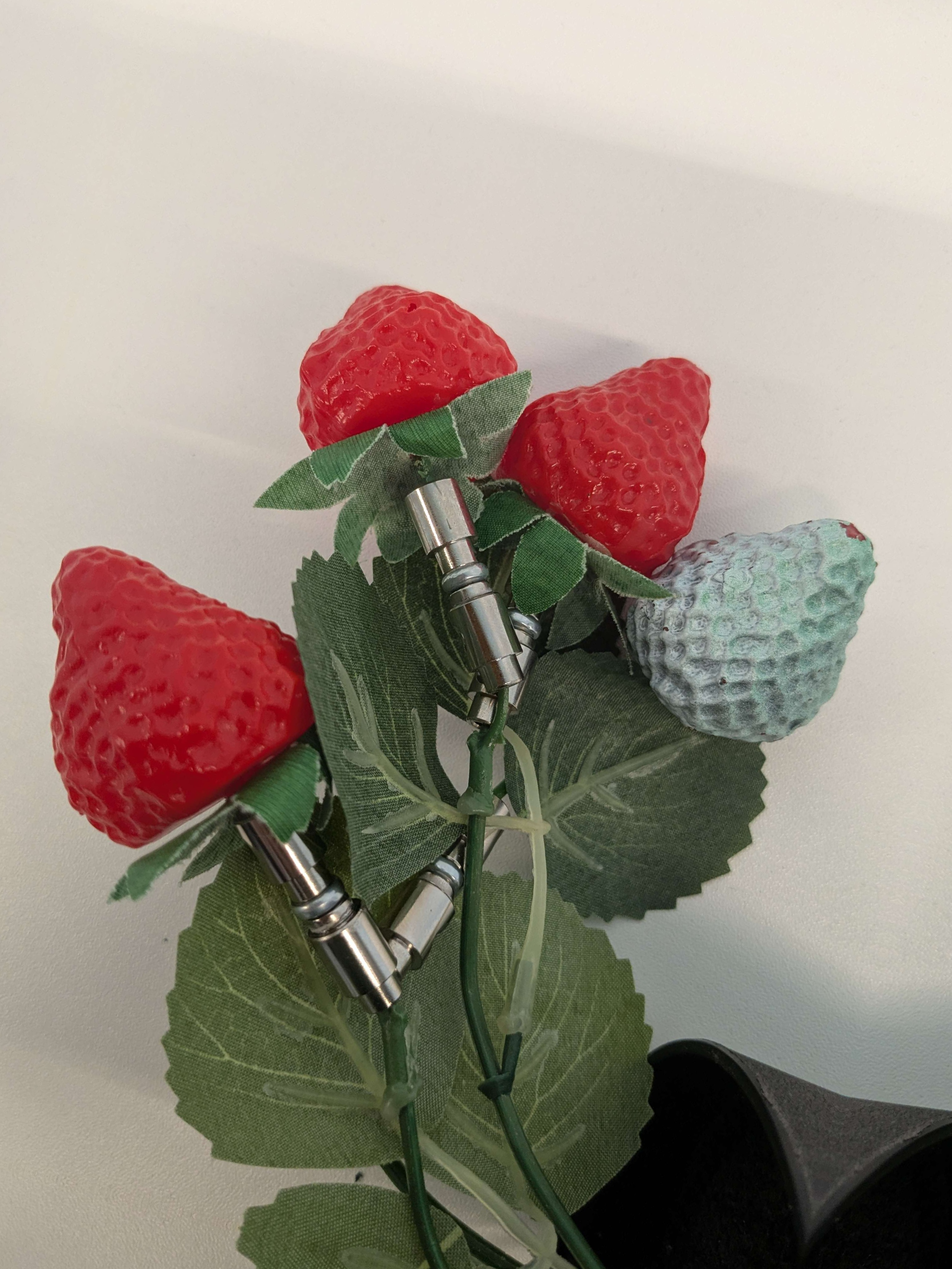Strawberry: (0, 525, 352, 893), (240, 237, 555, 530), (478, 309, 742, 595)
